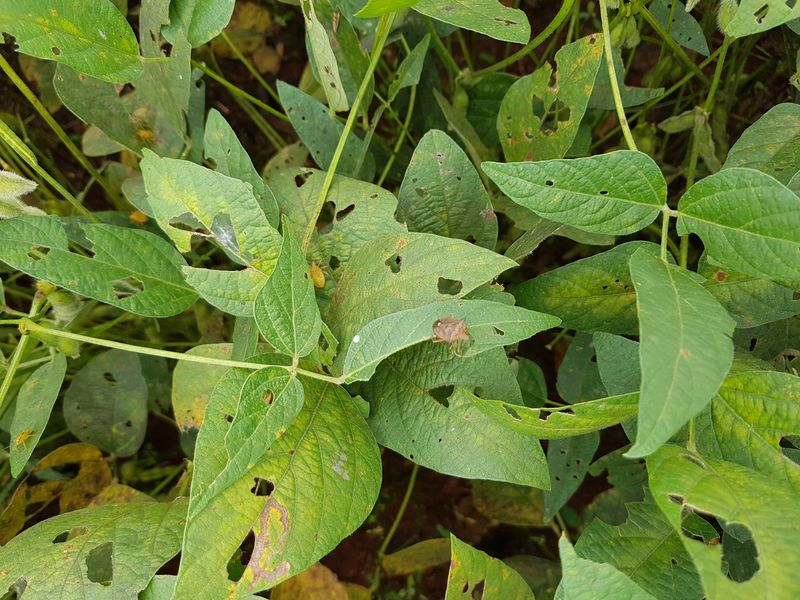Euschistus_heros_adulto: (424, 309, 479, 362)
Euschistus_heros_ninfa: (298, 254, 338, 296)
